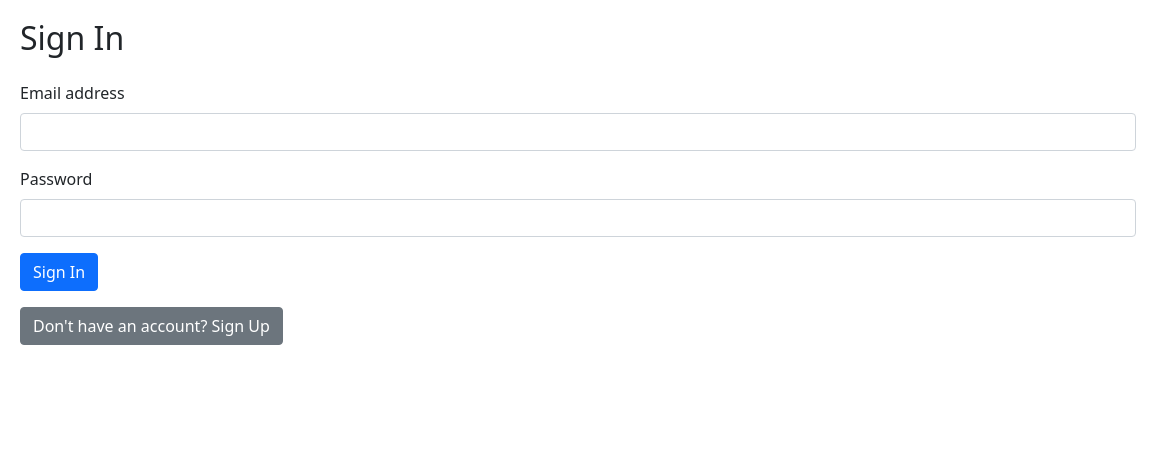
Test: App › toggles to the sign up form from the sign in page
The image size is (1153, 452).
Click the button "Don't have an account? Sign Up": (151, 326) [20,307,283,345]
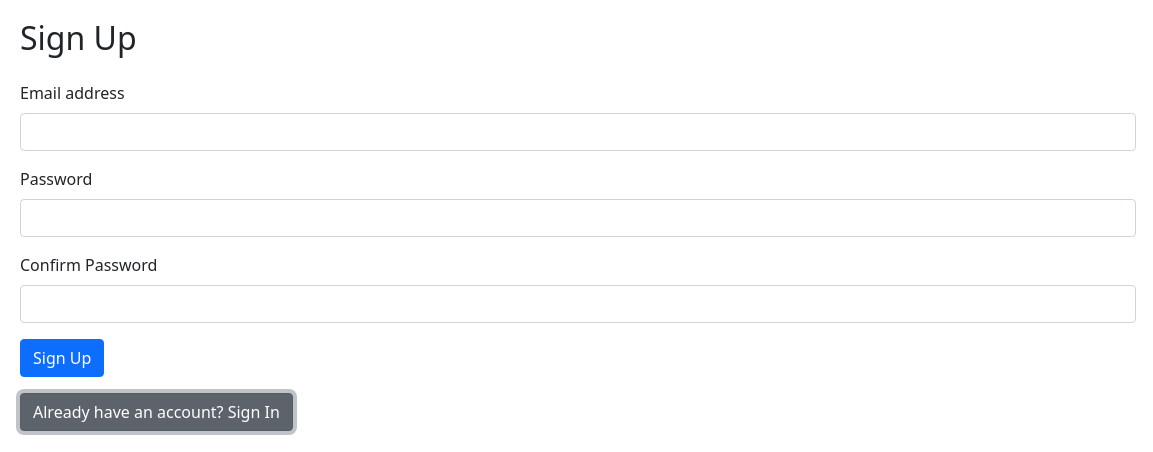
Expected: the heading "Sign Up" is shown, [20,16,137,59]
Expected: the password field labelled "Confirm Password" is shown, [20,285,1136,323]
